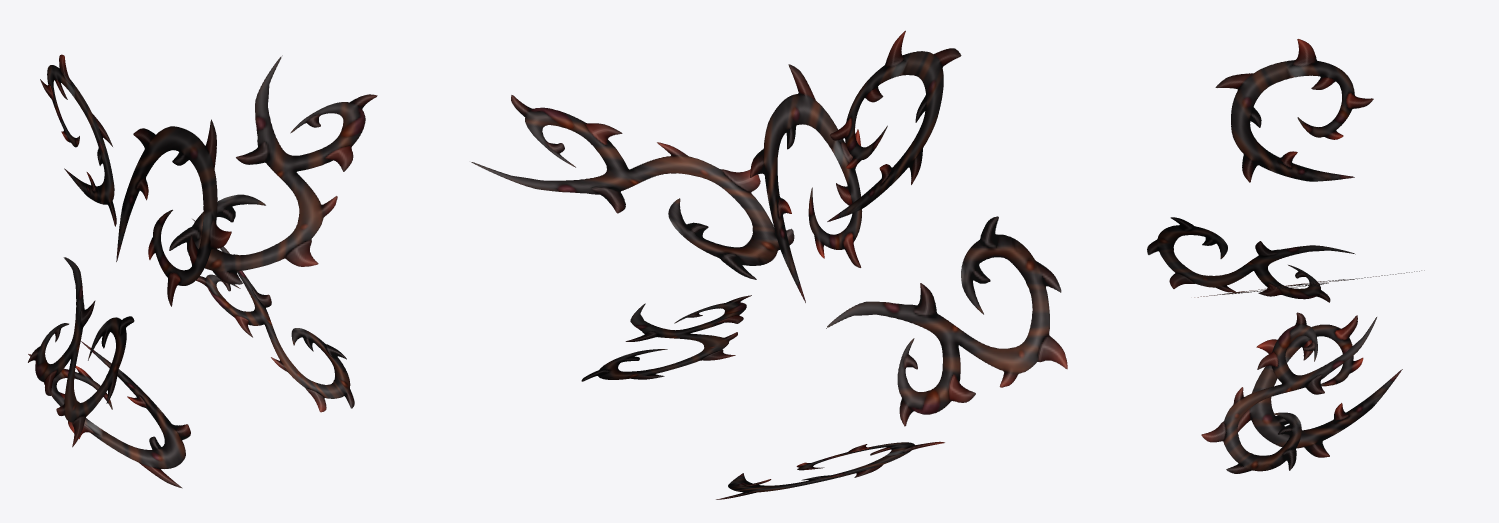
Rendered from env_clutter_burntthorn.fbx.
3 views of the same model, side by side, from view 1: azimuth 30°, elevation 25°; view 2: azimuth 150°, elevation 25°; view 3: azimuth 270°, elevation 25° (orthographic). The views are drawn at different scales.
Visible parts, largest first — view 1: plant03; view 2: plant03; view 3: plant03.
Part boxes in pixels (x1,y1,x2,y2): plant03: (28, 54, 377, 488); plant03: (471, 30, 1067, 499); plant03: (1147, 39, 1424, 473).
Bounding box in the file's own units: 6.7 × 6.58 × 5.46.
